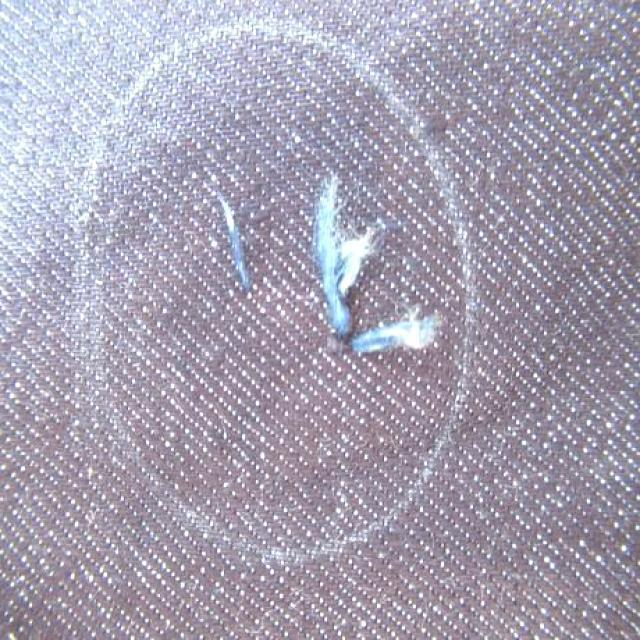Thread_other: (144, 114, 448, 444)
